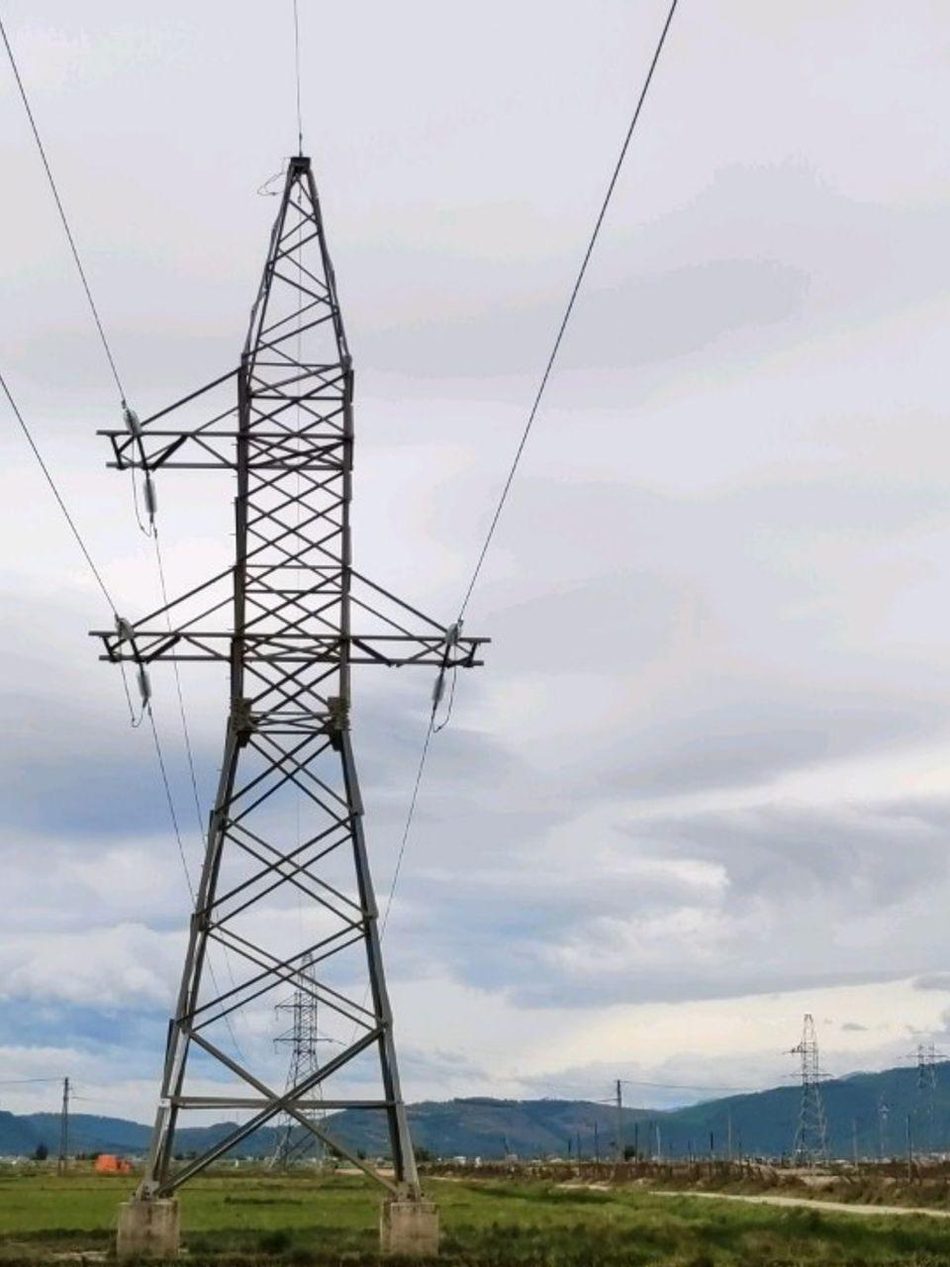tower: (77, 111, 587, 1264)
